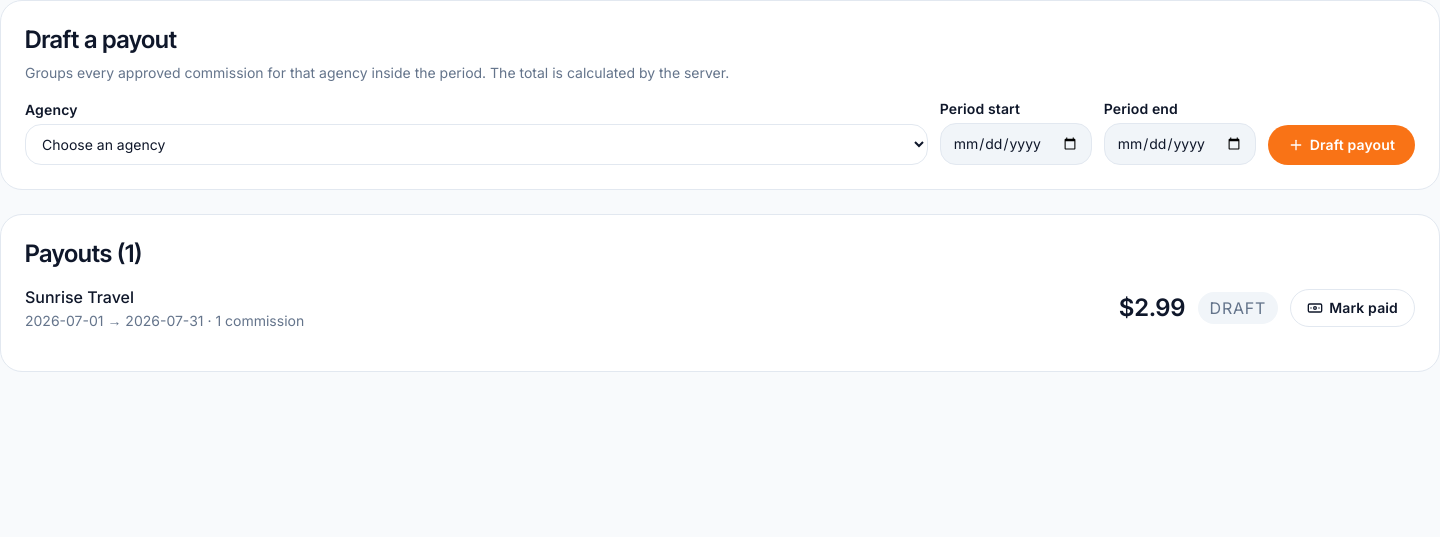
marking one paid › can be abandoned without recording anything
Click the 2nd button named "mark paid".
click(1353, 308)  # box [1290,289,1415,327]
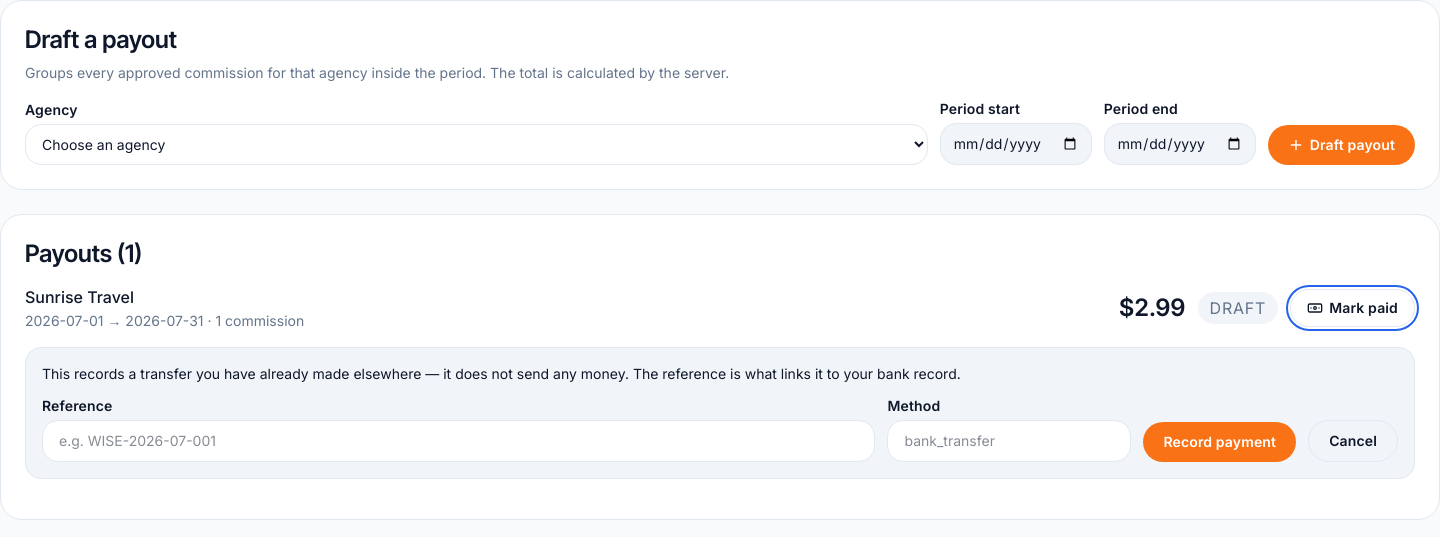
Click the 4th button named "cancel".
click(1353, 441)  # box [1308,420,1398,462]
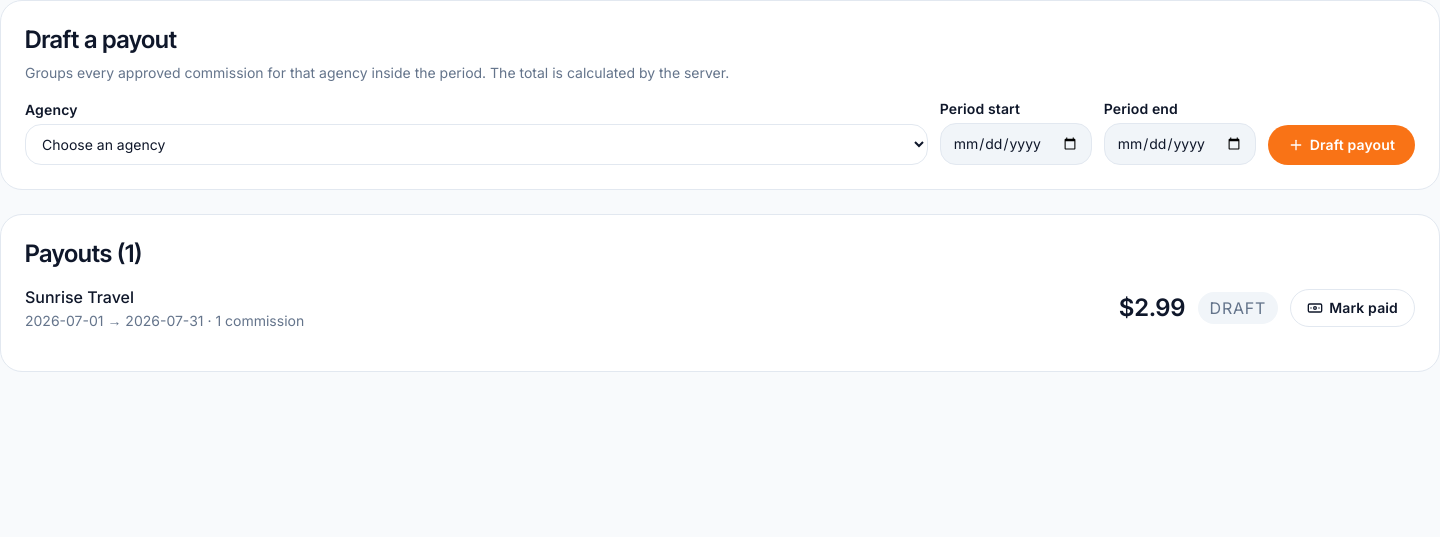
Result: the field labelled "reference" is gone
